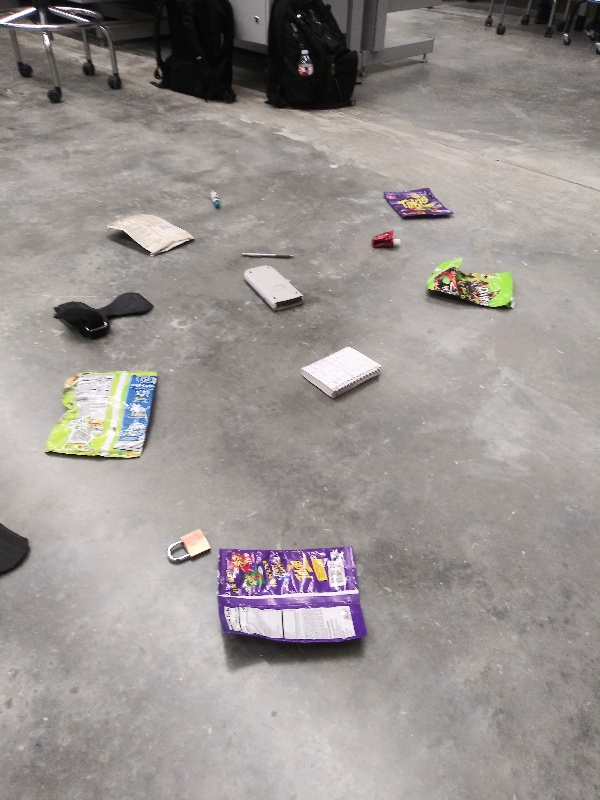bag: (215, 540, 376, 644), (39, 363, 165, 468), (420, 255, 520, 317), (103, 209, 201, 259), (376, 186, 457, 226)
bottle: (294, 46, 316, 79)
